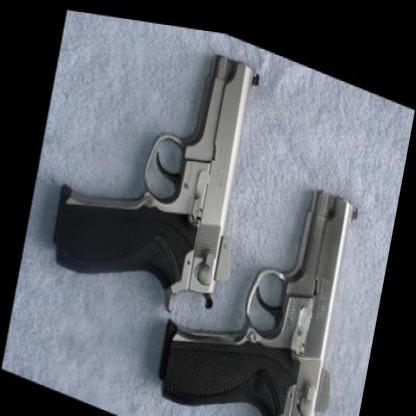pistol: (49, 6, 263, 330), (154, 123, 370, 414)
